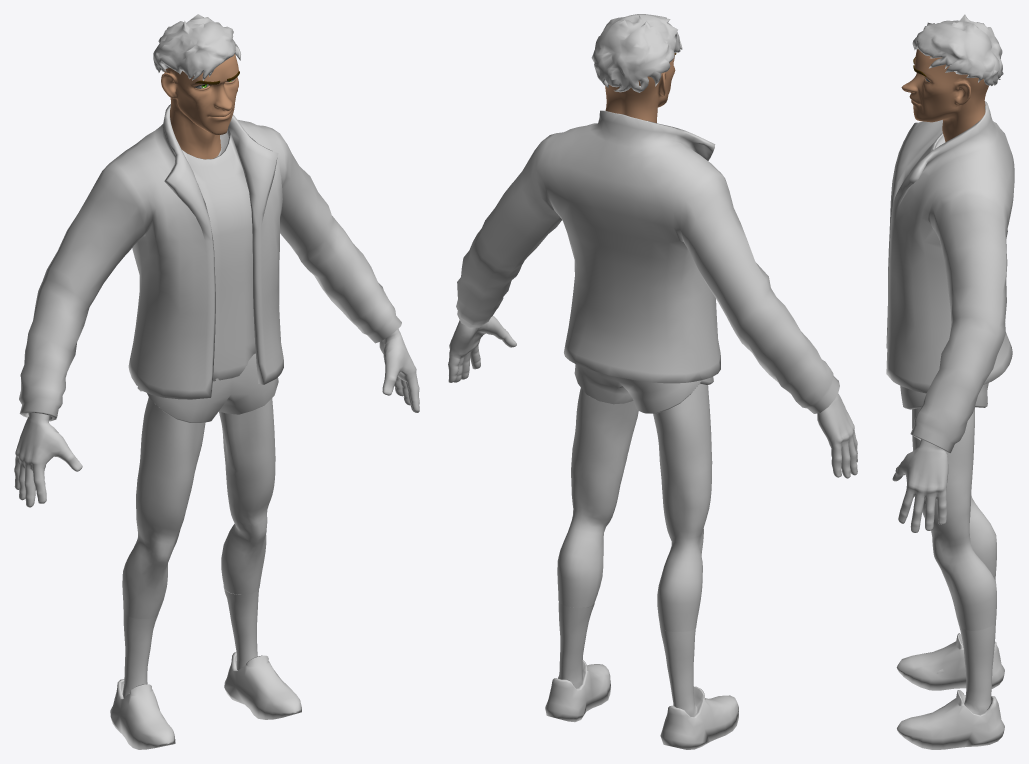
The model's file is M Character 16.fbx.
3 renders of one model, left to right at view 1: azimuth 30°, elevation 25°; view 2: azimuth 150°, elevation 25°; view 3: azimuth 270°, elevation 25°, orthographic. The views are drawn at different scales.
Visible parts, largest first — view 1: Wolf3D_Outfit_Top.011, m_legs.001, Wolf3D_Outfit_Footwear.012, m_body.001, m_head, Wolf3D_Hair.009, m_legs.002, Wolf3D_Outfit_Bottom.013; view 2: Wolf3D_Outfit_Top.011, m_legs.001, Wolf3D_Outfit_Footwear.012, Wolf3D_Hair.009, m_legs.002, m_body.001, Wolf3D_Outfit_Bottom.013, m_head; view 3: Wolf3D_Outfit_Top.011, m_legs.001, Wolf3D_Outfit_Footwear.012, m_head, Wolf3D_Hair.009, m_body.001, m_legs.002, Wolf3D_Outfit_Bottom.013.
Boxes of the visible parts, x1,y1,x2,y2 form: Wolf3D_Outfit_Top.011: (19,104,401,421); m_legs.001: (122,397,275,618); Wolf3D_Outfit_Footwear.012: (110,652,301,749); m_body.001: (14,329,419,507); m_head: (161,54,239,159); Wolf3D_Hair.009: (153,14,240,80); m_legs.002: (122,586,258,698); Wolf3D_Outfit_Bottom.013: (137,353,278,422); Wolf3D_Outfit_Top.011: (456,110,839,413); m_legs.001: (557,383,712,631); Wolf3D_Outfit_Footwear.012: (545,660,738,749); Wolf3D_Hair.009: (591,14,682,92); m_legs.002: (558,602,697,716); m_body.001: (448,316,857,478); Wolf3D_Outfit_Bottom.013: (574,364,713,413); m_head: (605,53,676,122); Wolf3D_Outfit_Top.011: (886,101,1014,452); m_legs.001: (912,407,996,630); Wolf3D_Outfit_Footwear.012: (896,633,1004,749); m_head: (901,49,988,142); Wolf3D_Hair.009: (912,14,1003,85); m_body.001: (892,439,948,532); m_legs.002: (936,574,995,714); Wolf3D_Outfit_Bottom.013: (900,383,988,409).
Size of the model in its own units: 117 by 200 by 33.63.
